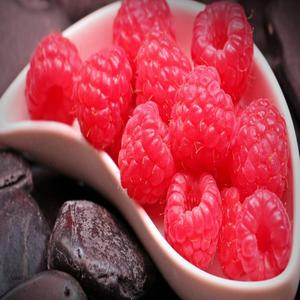raspb: (100, 5, 249, 162)
